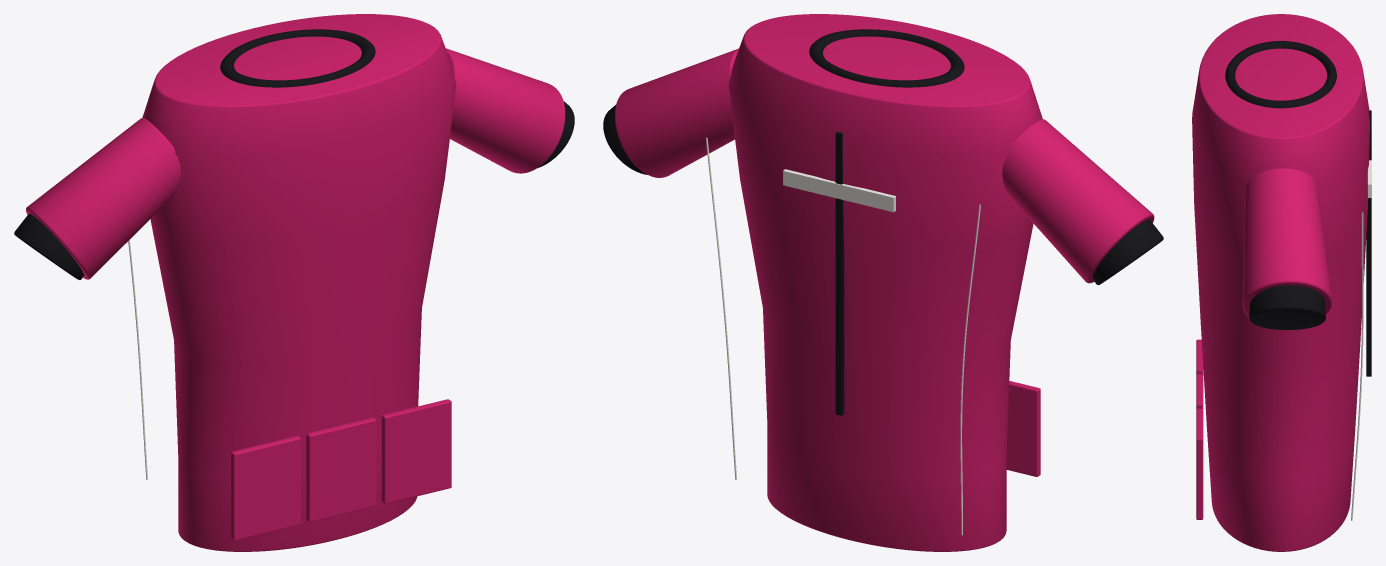
The model's file is jersey-women.glb.
3 renders of one model, left to right at view 1: azimuth 30°, elevation 25°; view 2: azimuth 150°, elevation 25°; view 3: azimuth 270°, elevation 25°, orthographic. The views are drawn at different scales.
Visible parts, largest first — view 1: GARMENT_TORSO, GARMENT_SLEEVE_L, GARMENT_SLEEVE_R, GARMENT_REAR_POCKET.001, GARMENT_REAR_POCKET.002, GARMENT_REAR_POCKET, GARMENT_DARK_COLLAR, GARMENT_CUFF_L; view 2: GARMENT_TORSO, GARMENT_SLEEVE_L, GARMENT_SLEEVE_R, GARMENT_REAR_POCKET, GARMENT_DARK_COLLAR, GARMENT_ZIP, GARMENT_CHEST_MARK, GARMENT_CUFF_L, GARMENT_SEAM.001, GARMENT_SEAM, GARMENT_CUFF_R; view 3: GARMENT_TORSO, GARMENT_SLEEVE_R, GARMENT_CUFF_R, GARMENT_DARK_COLLAR, GARMENT_ZIP, GARMENT_REAR_POCKET.002, GARMENT_SEAM.001, GARMENT_REAR_POCKET.001, GARMENT_REAR_POCKET.
Part boxes in pixels (x1,y1,x2,y2): GARMENT_TORSO: [142, 14, 456, 551]; GARMENT_SLEEVE_L: [26, 118, 180, 279]; GARMENT_SLEEVE_R: [446, 48, 565, 173]; GARMENT_REAR_POCKET.001: [306, 417, 376, 522]; GARMENT_REAR_POCKET.002: [381, 399, 451, 503]; GARMENT_REAR_POCKET: [231, 436, 300, 540]; GARMENT_DARK_COLLAR: [220, 29, 375, 87]; GARMENT_CUFF_L: [14, 213, 83, 279]; GARMENT_TORSO: [728, 14, 1042, 551]; GARMENT_SLEEVE_L: [1002, 119, 1154, 283]; GARMENT_SLEEVE_R: [615, 48, 738, 177]; GARMENT_REAR_POCKET: [1006, 381, 1040, 476]; GARMENT_DARK_COLLAR: [809, 29, 964, 87]; GARMENT_ZIP: [835, 131, 844, 415]; GARMENT_CHEST_MARK: [783, 169, 895, 212]; GARMENT_CUFF_L: [1092, 219, 1163, 284]; GARMENT_SEAM.001: [705, 137, 736, 479]; GARMENT_SEAM: [960, 204, 980, 535]; GARMENT_CUFF_R: [603, 105, 647, 174]; GARMENT_TORSO: [1192, 14, 1369, 551]; GARMENT_SLEEVE_R: [1242, 168, 1332, 317]; GARMENT_CUFF_R: [1249, 285, 1325, 329]; GARMENT_DARK_COLLAR: [1225, 41, 1336, 108]; GARMENT_ZIP: [1366, 110, 1371, 376]; GARMENT_REAR_POCKET.002: [1196, 408, 1203, 519]; GARMENT_SEAM.001: [1351, 212, 1363, 520]; GARMENT_REAR_POCKET.001: [1196, 374, 1203, 409]; GARMENT_REAR_POCKET: [1196, 339, 1203, 374].
Bounding box in the file's own units: 1.38 × 1.11 × 0.42.
